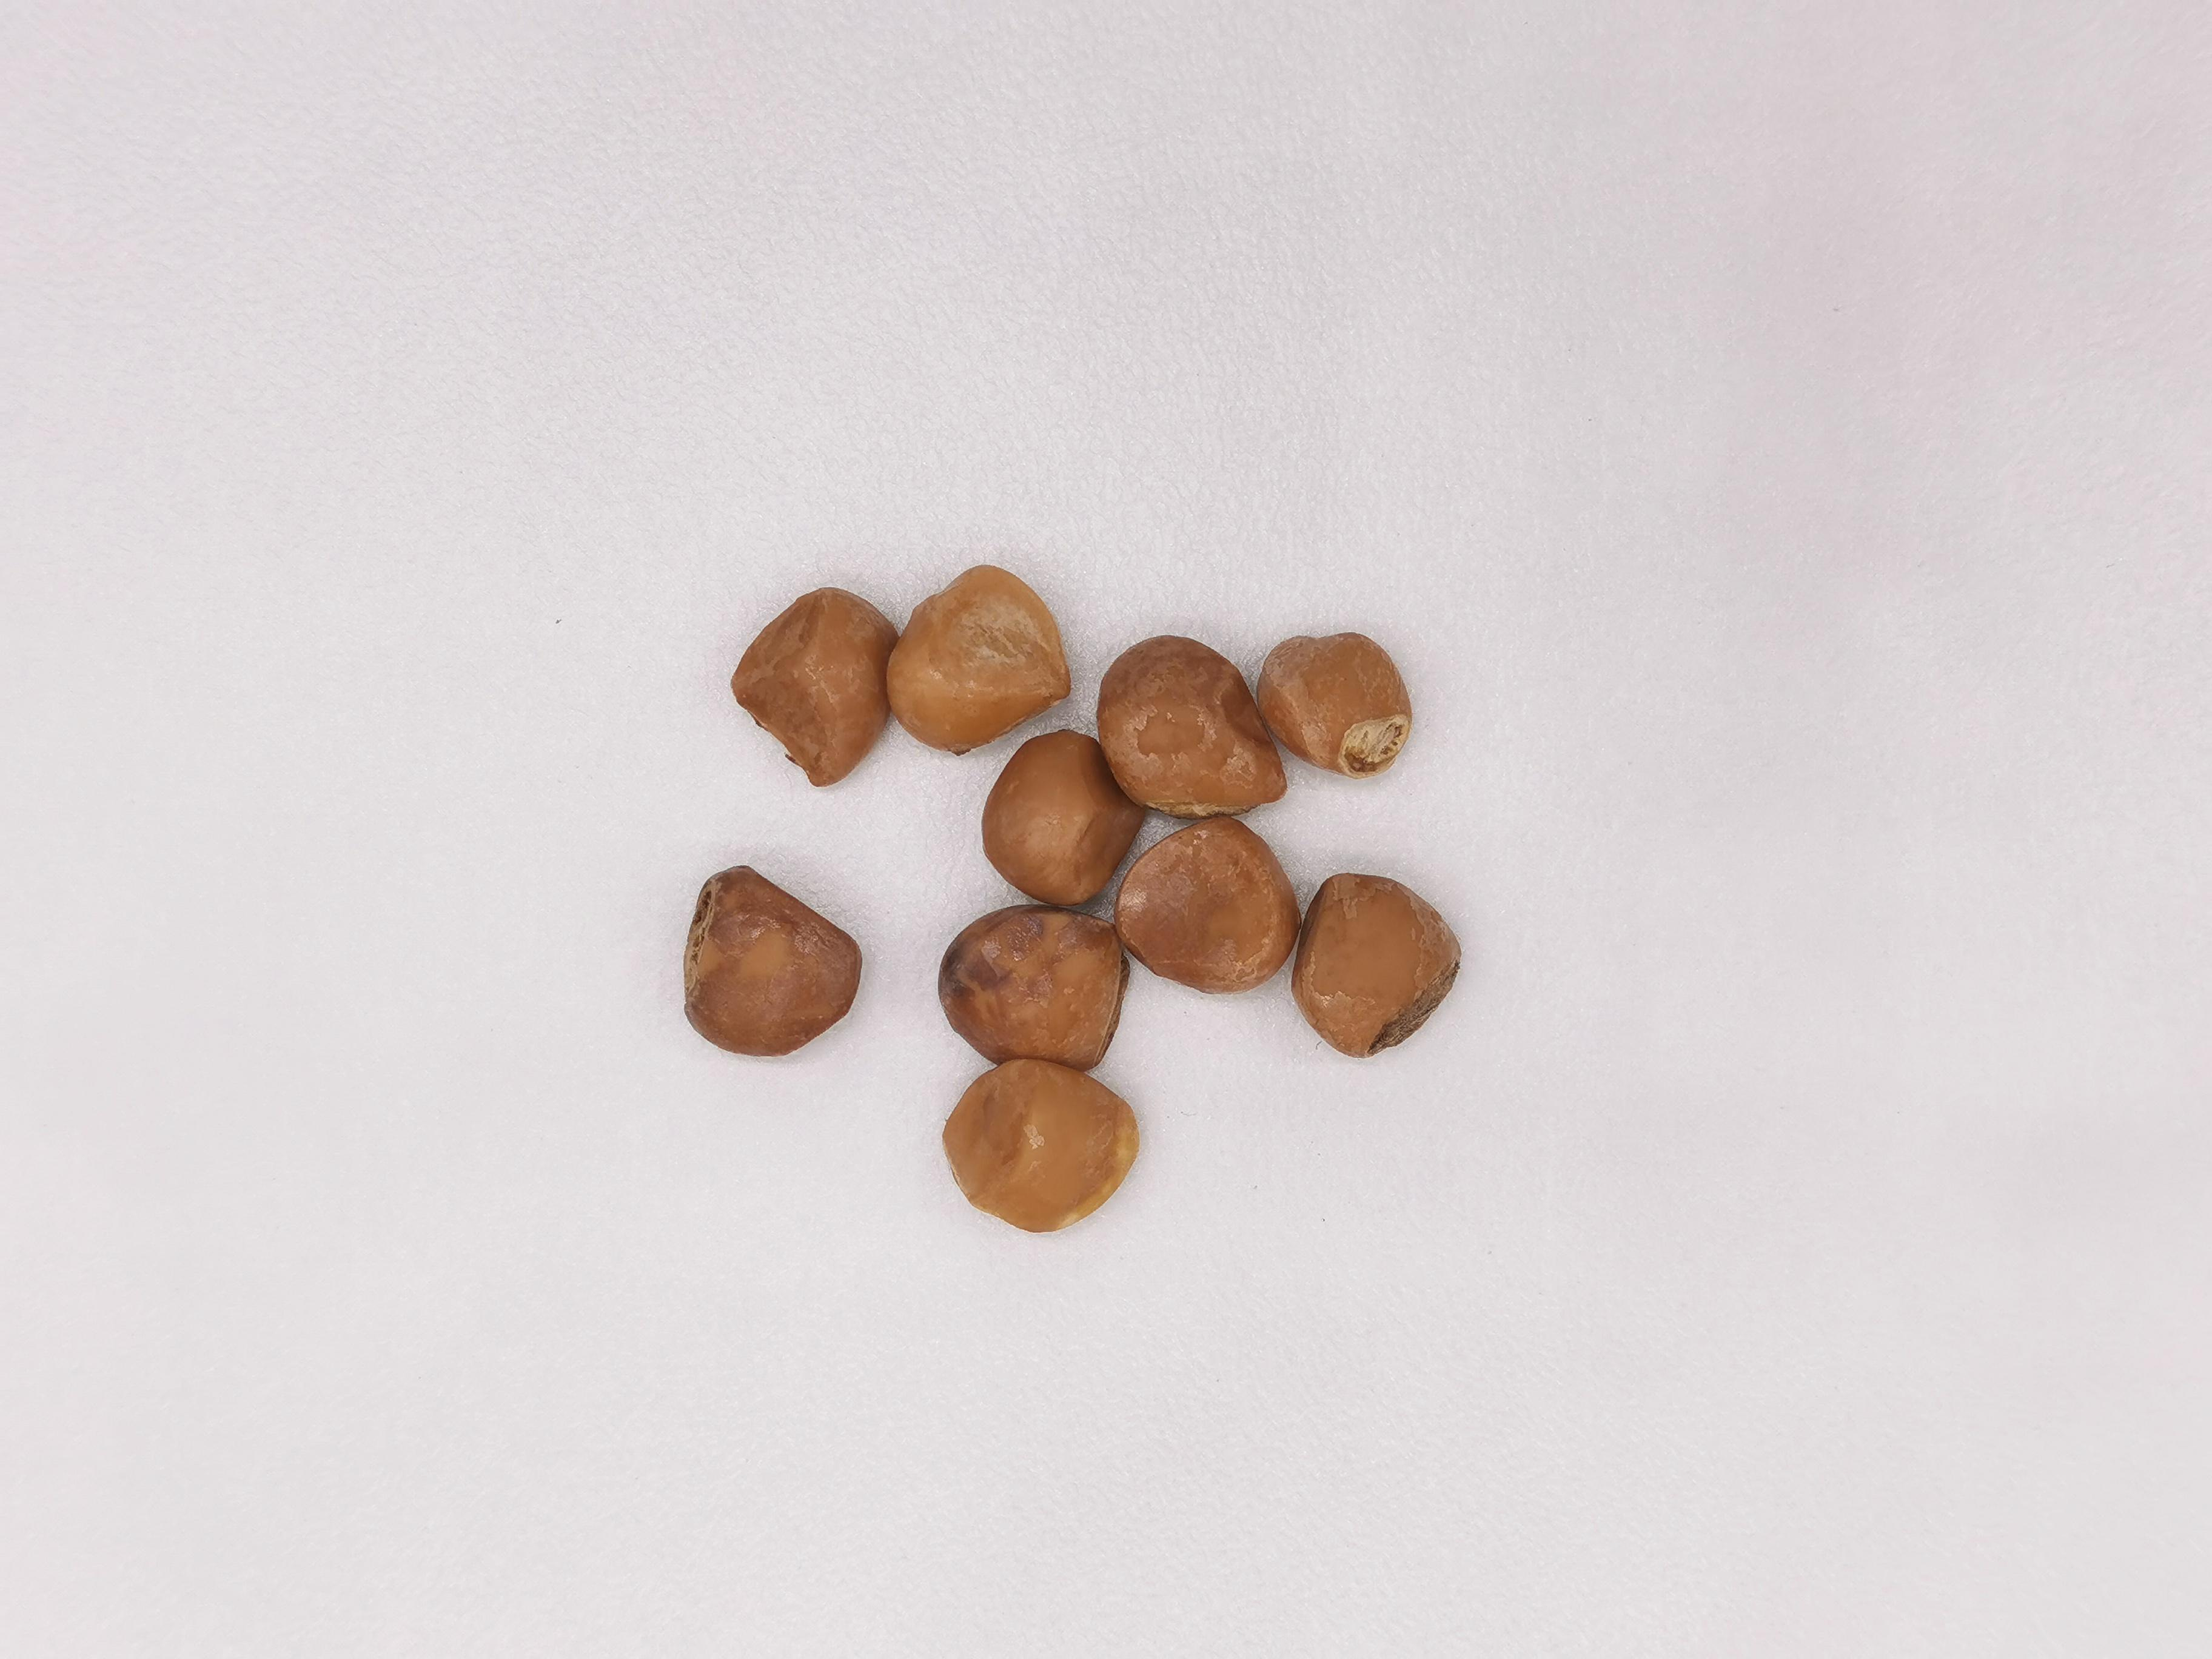seed: (676, 857, 869, 1058), (935, 1061, 1148, 1239), (885, 554, 1073, 753), (1097, 629, 1292, 817), (728, 580, 895, 789), (1109, 814, 1298, 999), (1285, 870, 1468, 1060), (935, 899, 1127, 1075), (975, 720, 1139, 903), (1249, 626, 1411, 777)
